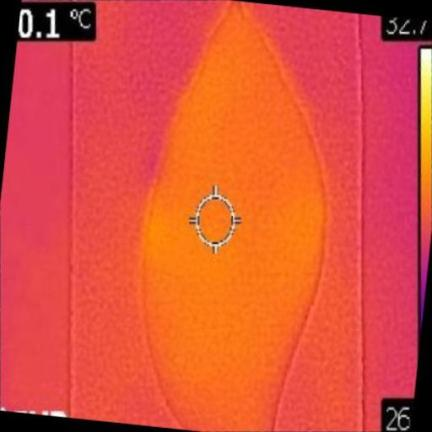mango: (143, 2, 325, 432)
